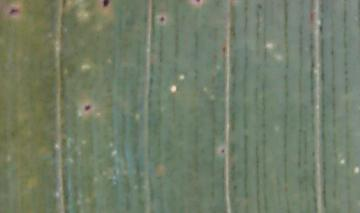tarspot: (8, 8, 20, 16), (83, 103, 91, 111), (318, 24, 325, 33), (220, 146, 225, 155), (103, 1, 110, 7), (159, 16, 165, 22), (195, 1, 201, 4)
